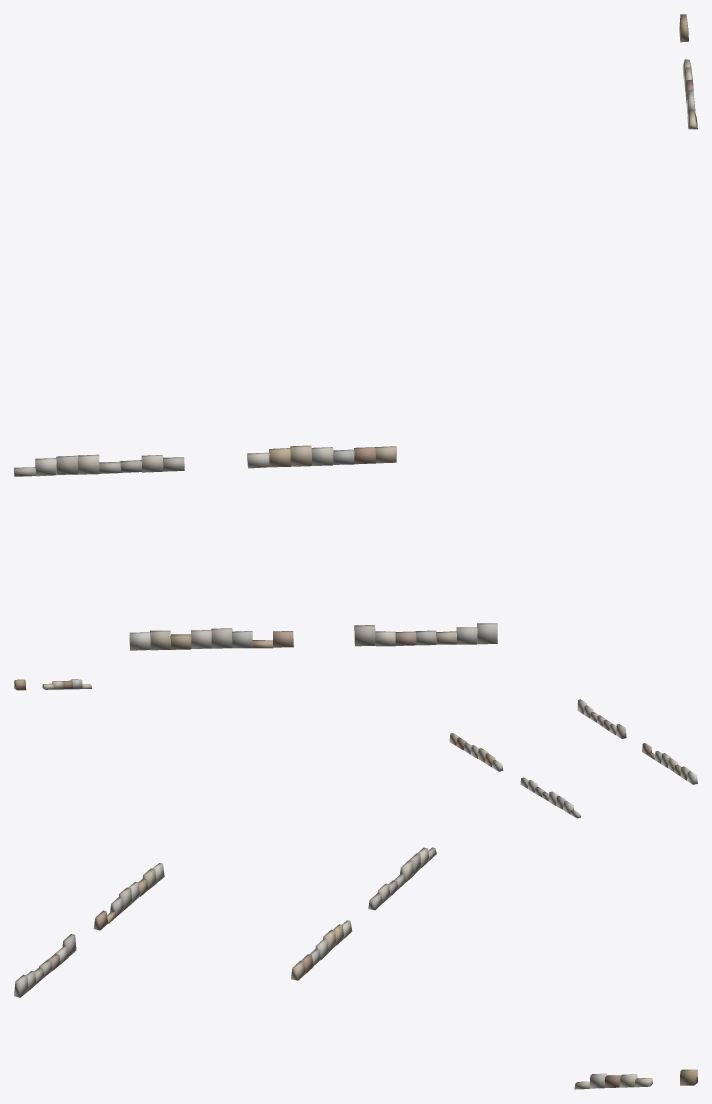
The model's file is farm_2_33_far.glb.
3 renders of one model, top to bottom at view 1: azimuth 30°, elevation 25°; view 2: azimuth 150°, elevation 25°; view 3: azimuth 270°, elevation 25°, orthographic. The views are drawn at different scales.
Visible parts, largest first — view 1: geometry_0; view 2: geometry_0; view 3: geometry_0.
Part boxes in pixels (box(x1,y1,x2,y2)): geometry_0: box(14, 14, 697, 650); geometry_0: box(14, 679, 697, 818); geometry_0: box(14, 847, 697, 1089).
Size of the model in its own units: 74.93 by 16.3 by 59.21.
